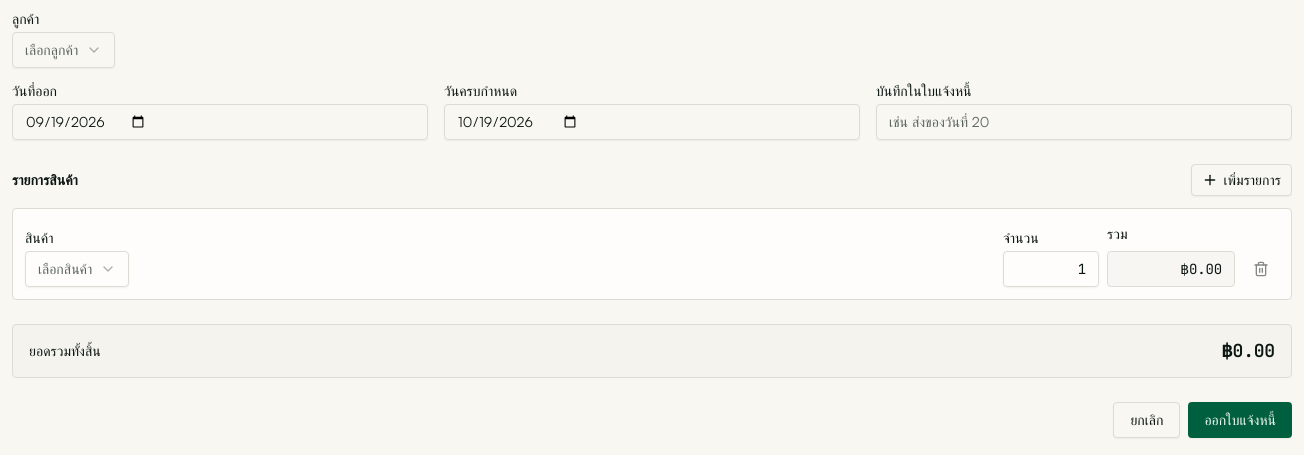
InvoiceForm › computes the line total and grand total in THB from product price and quantity
The width and height of the screenshot is (1304, 455).
Click the dropdown labelled "สินค้า".
click(77, 269)  # box [25,251,129,287]
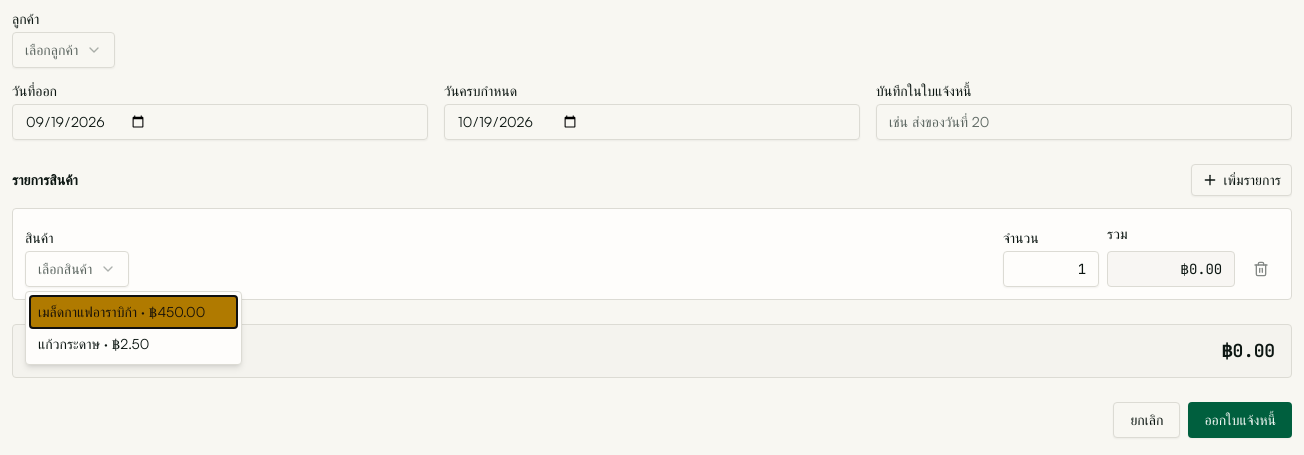
Click the option "เมล็ดกาแฟอาราบิก้า · ฿450.00".
click(134, 312)  # box [30,296,237,328]
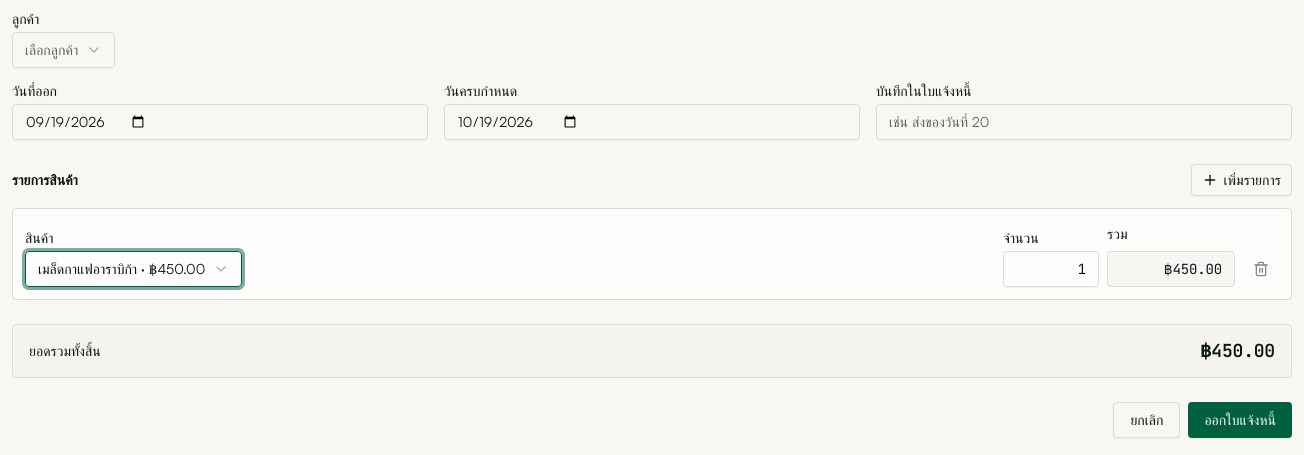
Replace the text in the field labelled "จำนวน" with "3" at (1051, 269), box [1003,251,1099,287]
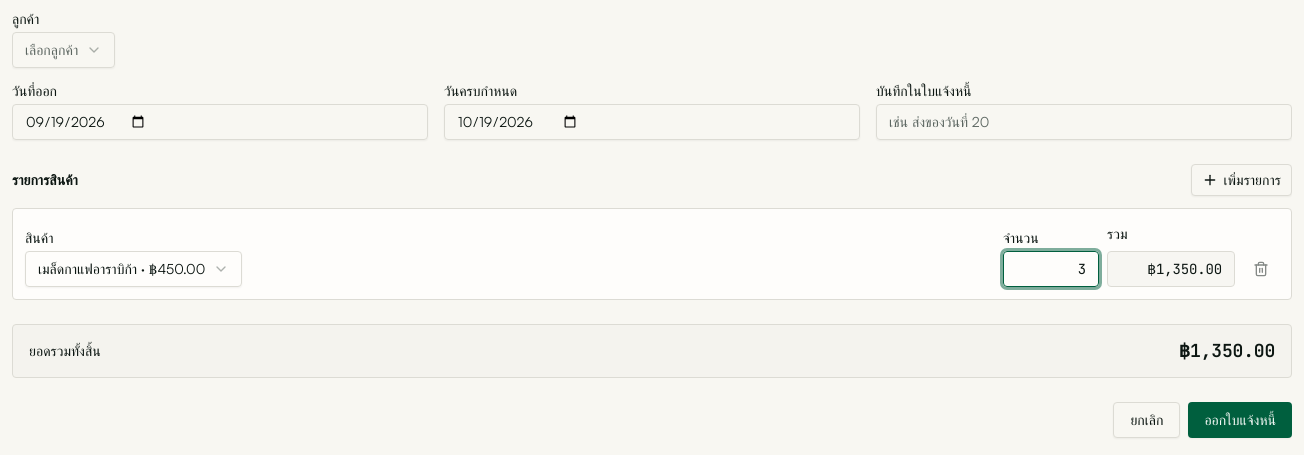
Result: the text with test id "invoice.grand_total" reads "฿1,350.00" at [1179,339,1275,362]
Result: the text with test id "invoice.line_total.1" reads "฿1,350.00" at [1147,260,1222,278]
